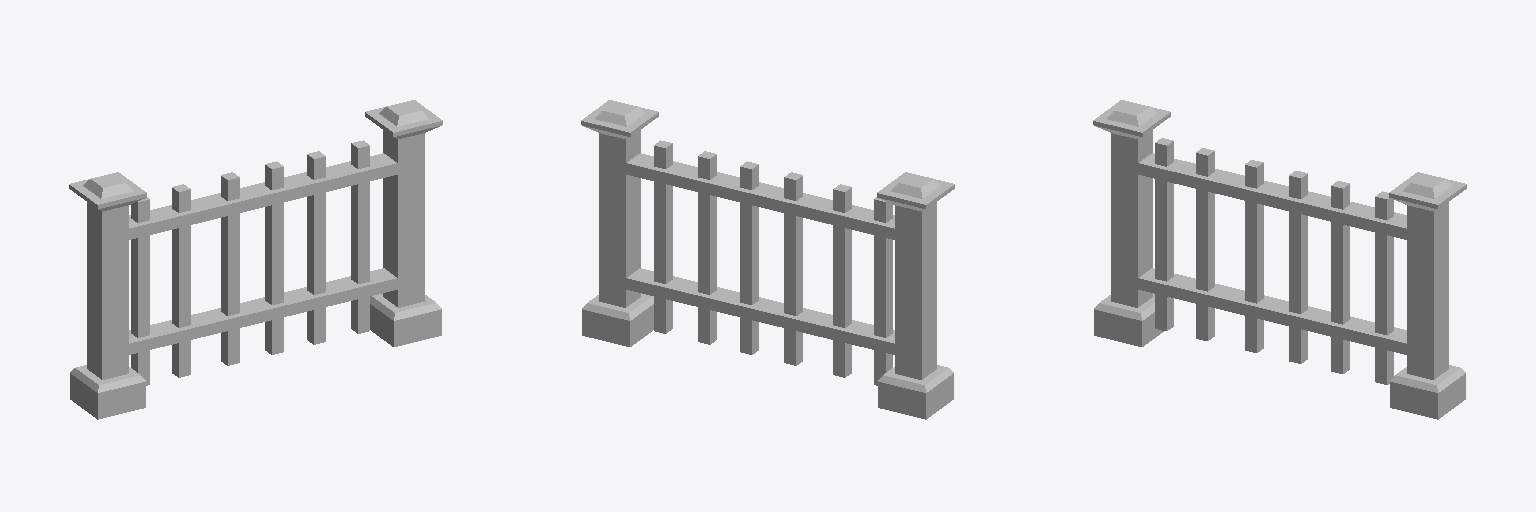
Rendered from Fence_Cemetery1.obj.
The picture shows the model from 3 angles: view 1: azimuth 30°, elevation 25°; view 2: azimuth 150°, elevation 25°; view 3: azimuth 330°, elevation 25°; orthographic projection.
Visible parts, largest first — view 1: Fence_Cmentary_01; view 2: Fence_Cmentary_01; view 3: Fence_Cmentary_01.
Part boxes in pixels (x1,y1,x2,y2): Fence_Cmentary_01: (69, 100, 442, 419); Fence_Cmentary_01: (581, 100, 954, 419); Fence_Cmentary_01: (1093, 100, 1466, 419).
Size of the model in its own units: 29.89 by 18.41 by 4.29.